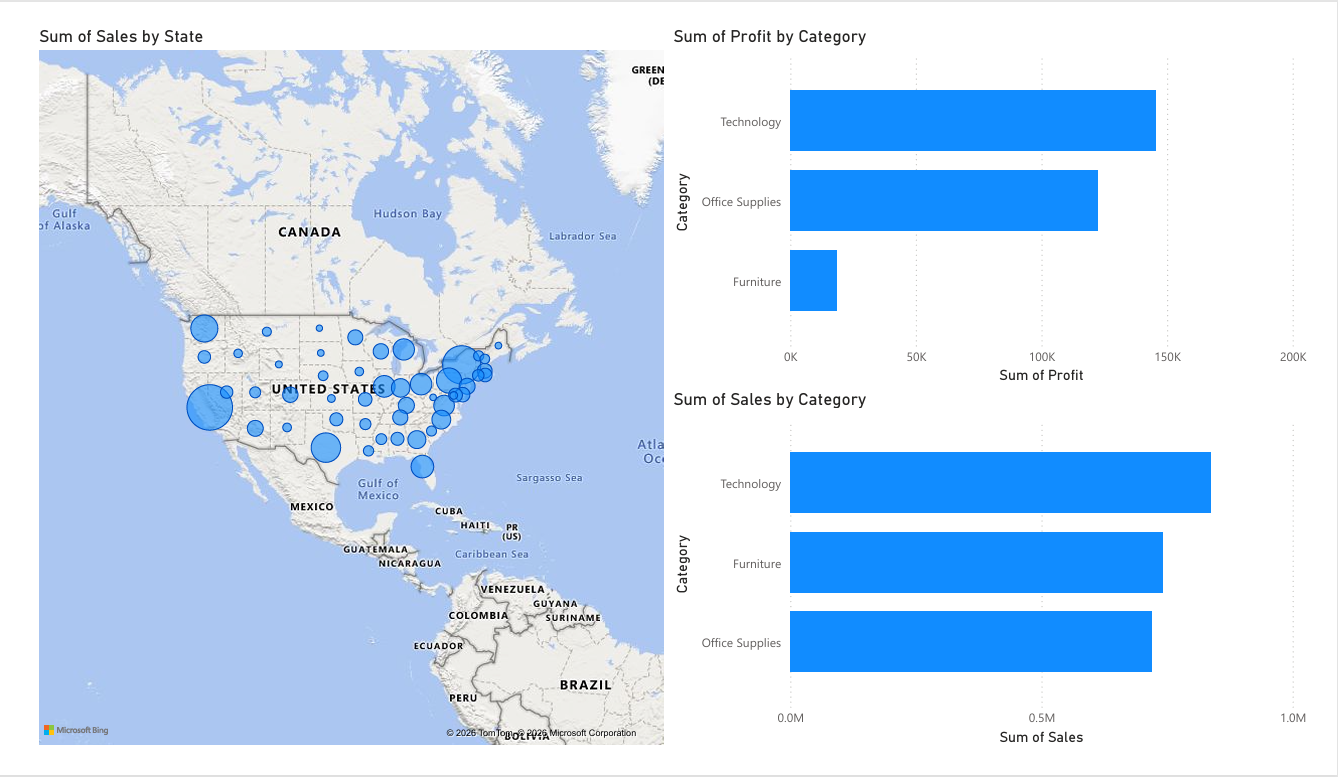

Layout of this report page (visuals, bound fields, positions):
{"tool":"powerbi","page":{"name":"Page 2","canvas":[1280,720],"ordinal":1},"visuals":[{"type":"map","fields":{"Category":["Sample - Superstore.State"],"Size":["Sum(Sample - Superstore.Sales)"]},"box":[10.6,0,629.9,719.2],"z":0},{"type":"barChart","fields":{"Category":["Sample - Superstore.Category"],"Y":["Sum(Sample - Superstore.Sales)"]},"box":[640.5,360.4,639,358.9],"z":1000},{"type":"barChart","fields":{"Category":["Sample - Superstore.Category"],"Y":["Sum(Sample - Superstore.Profit)"]},"box":[640.5,0,639,360.4],"z":2000}]}

Visuals, with their boxes on the page's 1280x720 design canvas (x1, y1, x2, y2). These are canvas units, not pixel positions in the 1338x777 screenshot, which may show the page scaled, cropped or inside an application window:
map - Sample - Superstore.State x Sum(Sample - Superstore.Sales): {"left": 11, "top": 0, "right": 640, "bottom": 719}
barChart - Sample - Superstore.Category x Sum(Sample - Superstore.Sales): {"left": 640, "top": 360, "right": 1280, "bottom": 719}
barChart - Sample - Superstore.Category x Sum(Sample - Superstore.Profit): {"left": 640, "top": 0, "right": 1280, "bottom": 360}
